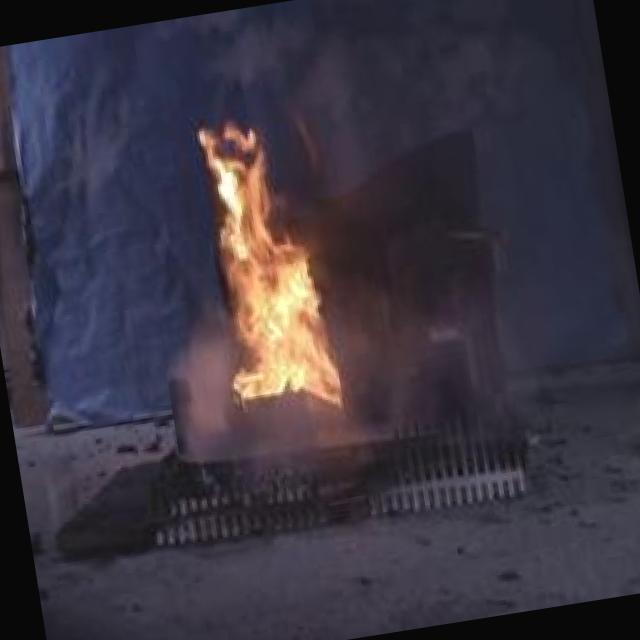fire: (165, 92, 384, 430)
